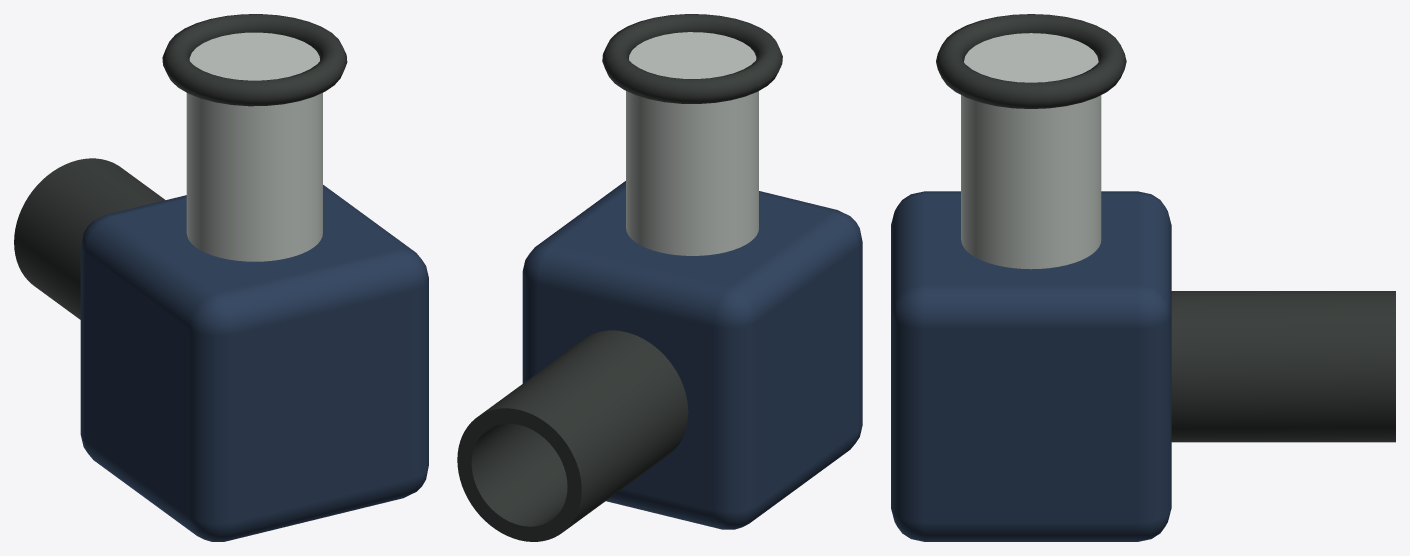
File: planetarium-and-optical-observatory-diagonal-adapter-b95a5001__31853.glb
The picture shows the model from 3 angles, left to right: view 1: azimuth 30°, elevation 25°; view 2: azimuth 150°, elevation 25°; view 3: azimuth 270°, elevation 25°; orthographic projection. The views are drawn at different scales.
Parts seen in each view (by area): view 1: diagonal-adapter; view 2: diagonal-adapter; view 3: diagonal-adapter.
Part boxes in pixels (bbox=[...]): diagonal-adapter: bbox=[14, 14, 428, 541]; diagonal-adapter: bbox=[457, 14, 862, 541]; diagonal-adapter: bbox=[891, 14, 1395, 541].
Size of the model in its own units: 0.1 by 0.175 by 0.18.
